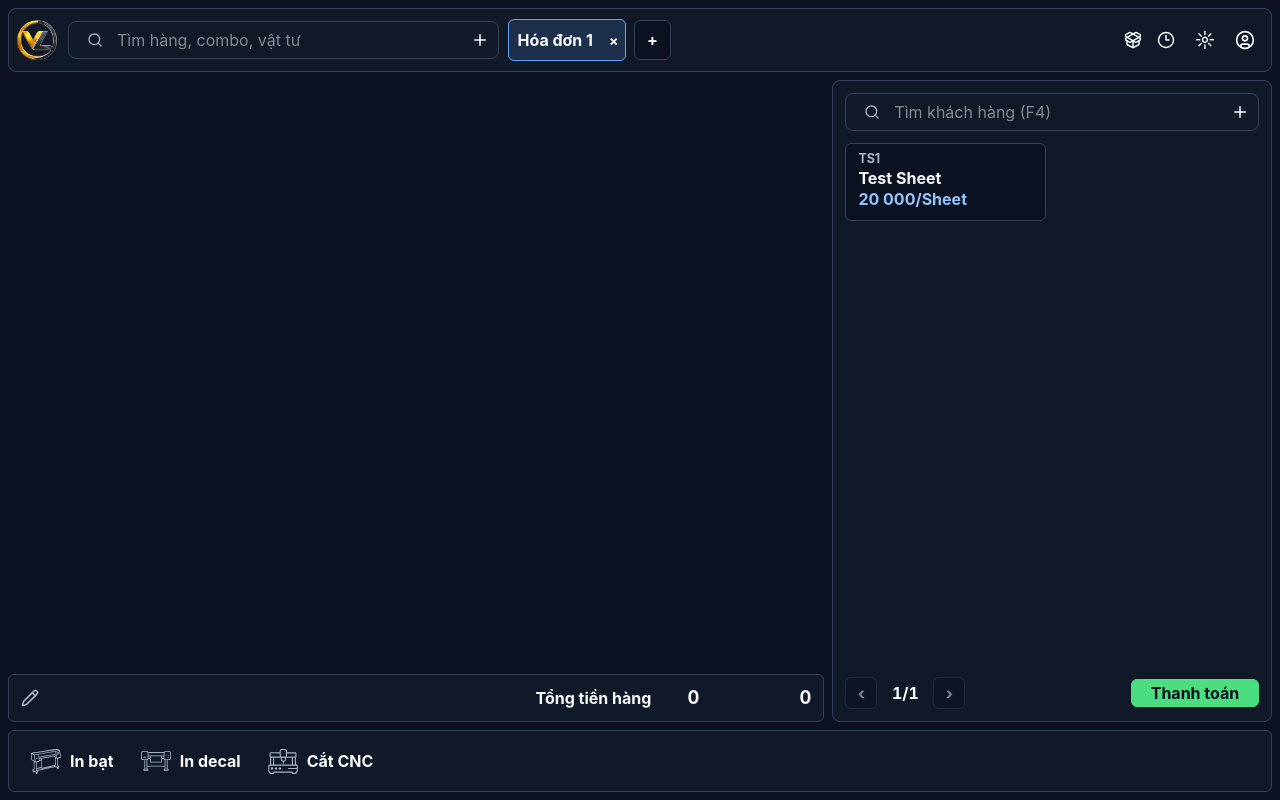
Test: converts automatic unit price when sale unit changes
The image size is (1280, 800).
Click the button "TS1 Test Sheet 20 000/Sheet" at (946, 182), box [845,143,1046,221]
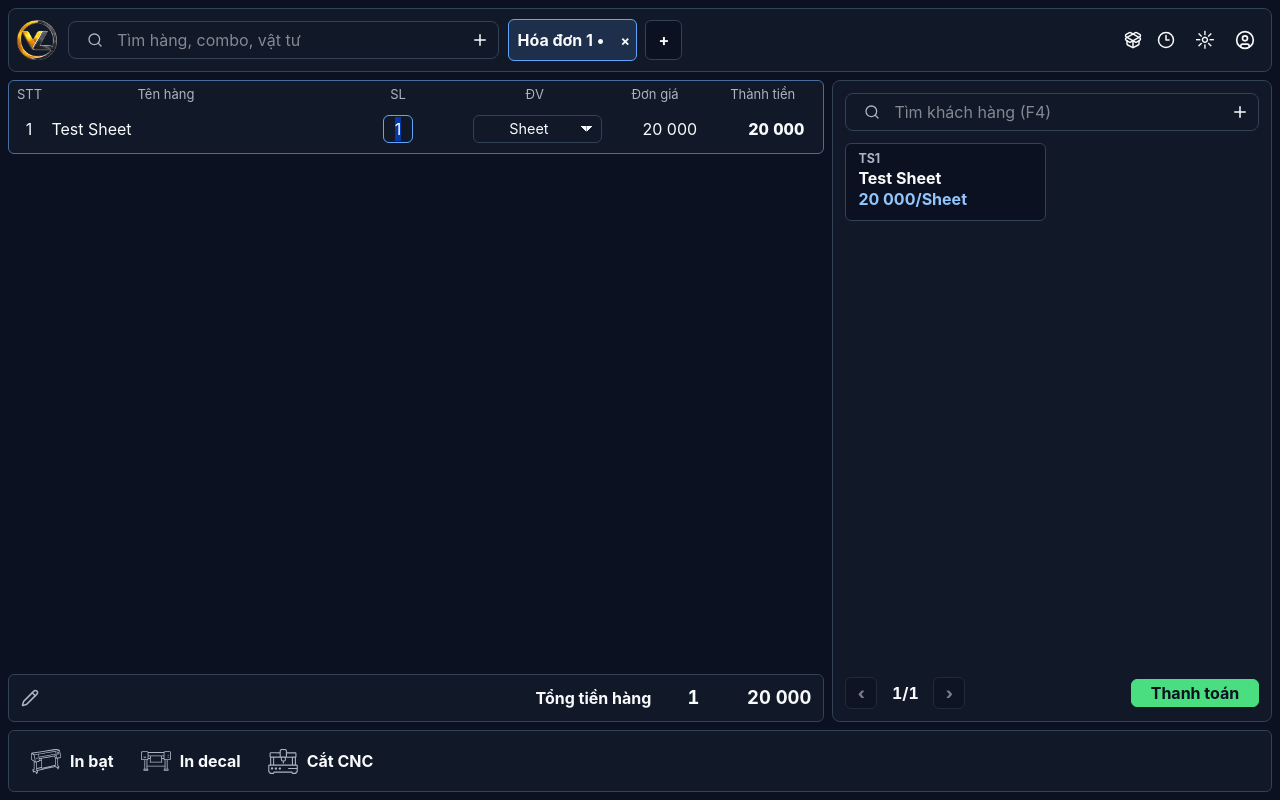
Expected: the field named "Đơn giá Test Sheet" holds "20 000", [636,114,704,142]
Select "Half Sheet" in the dropdown named "Test Sheet" at (538, 128), box [473,114,602,142]
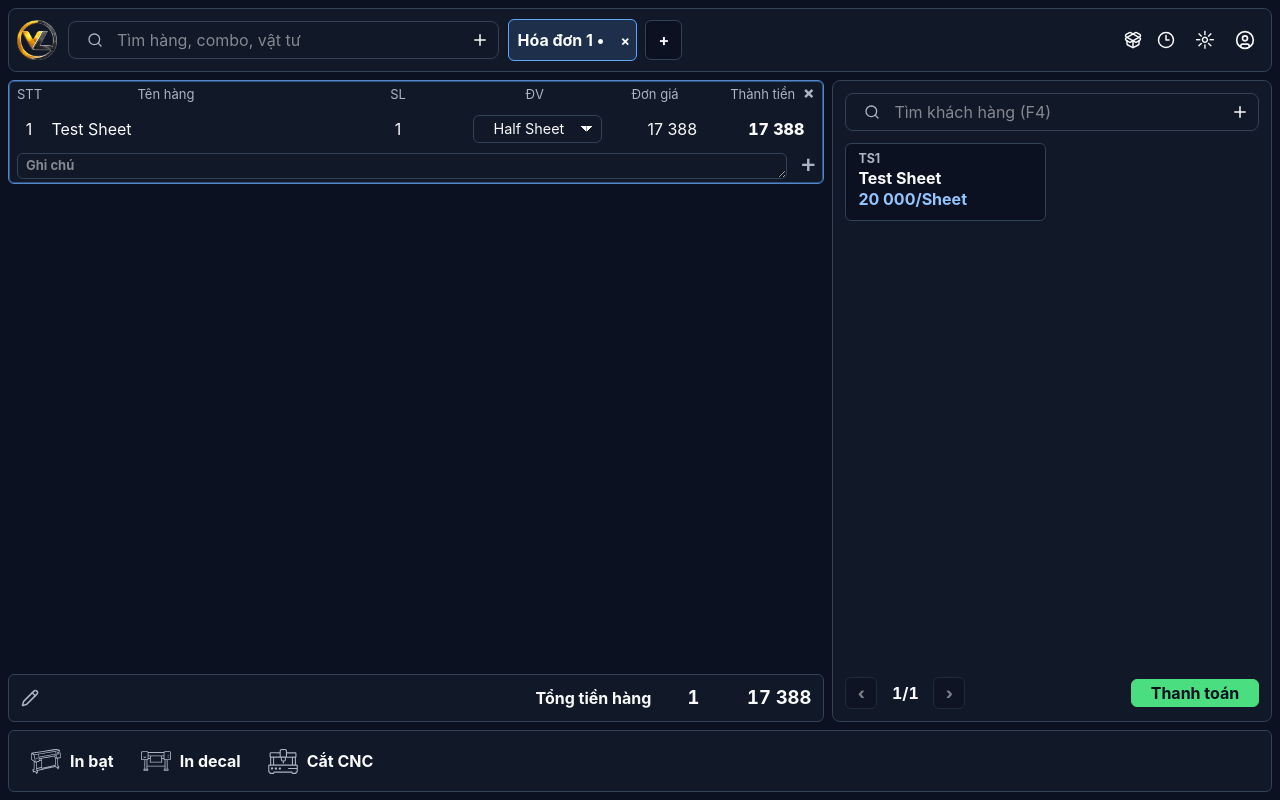
Expected: the field named "Đơn giá Test Sheet" holds "17 388", [636,114,704,142]
Select "Quarter Sheet" in the dropdown named "Test Sheet" at (538, 128), box [473,114,602,142]
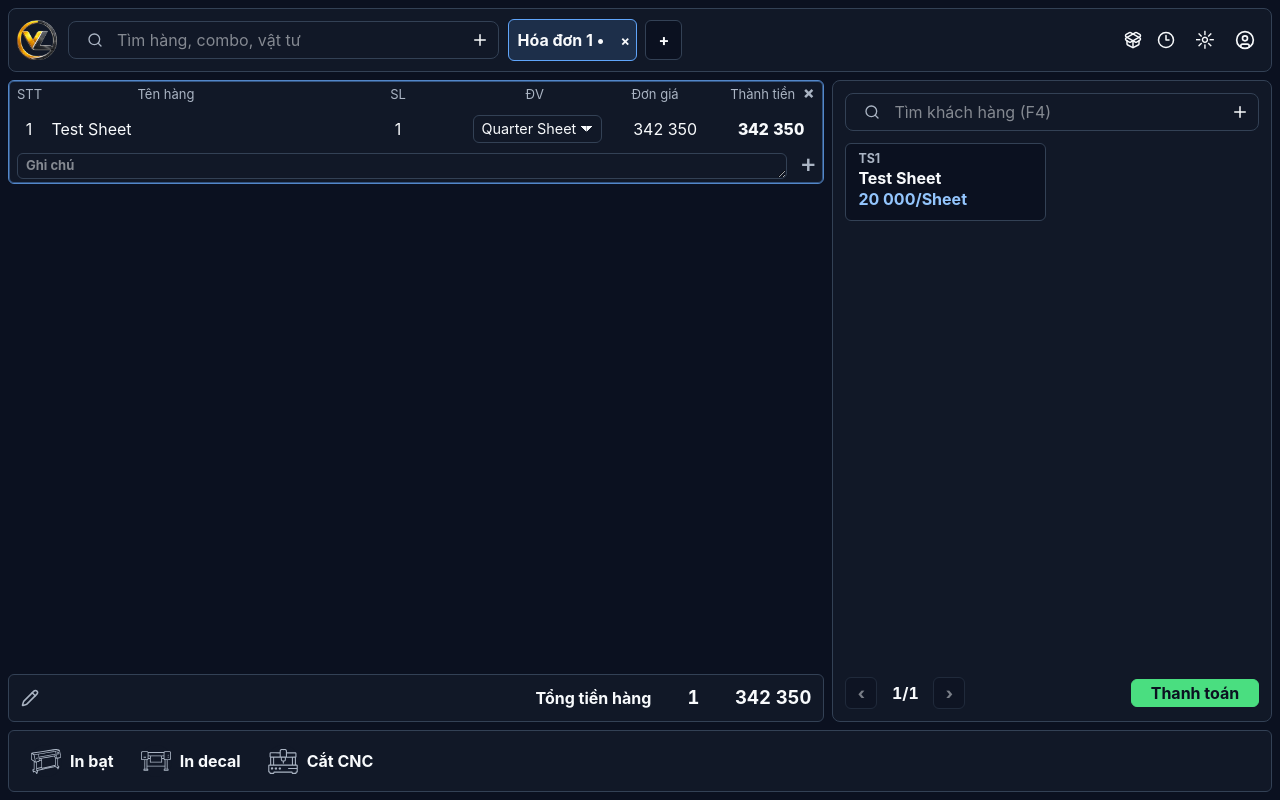
Expected: the field named "Đơn giá Test Sheet" holds "342 350", [626,114,704,142]
